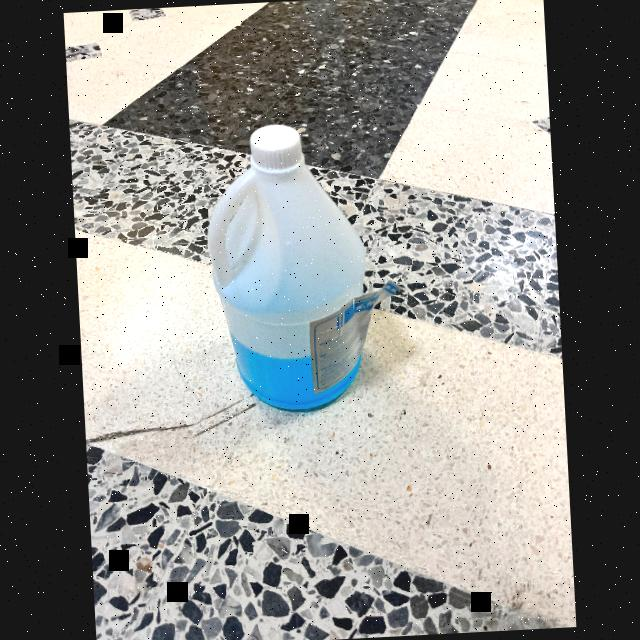chemical_plastic_gallon: (184, 113, 411, 427)
